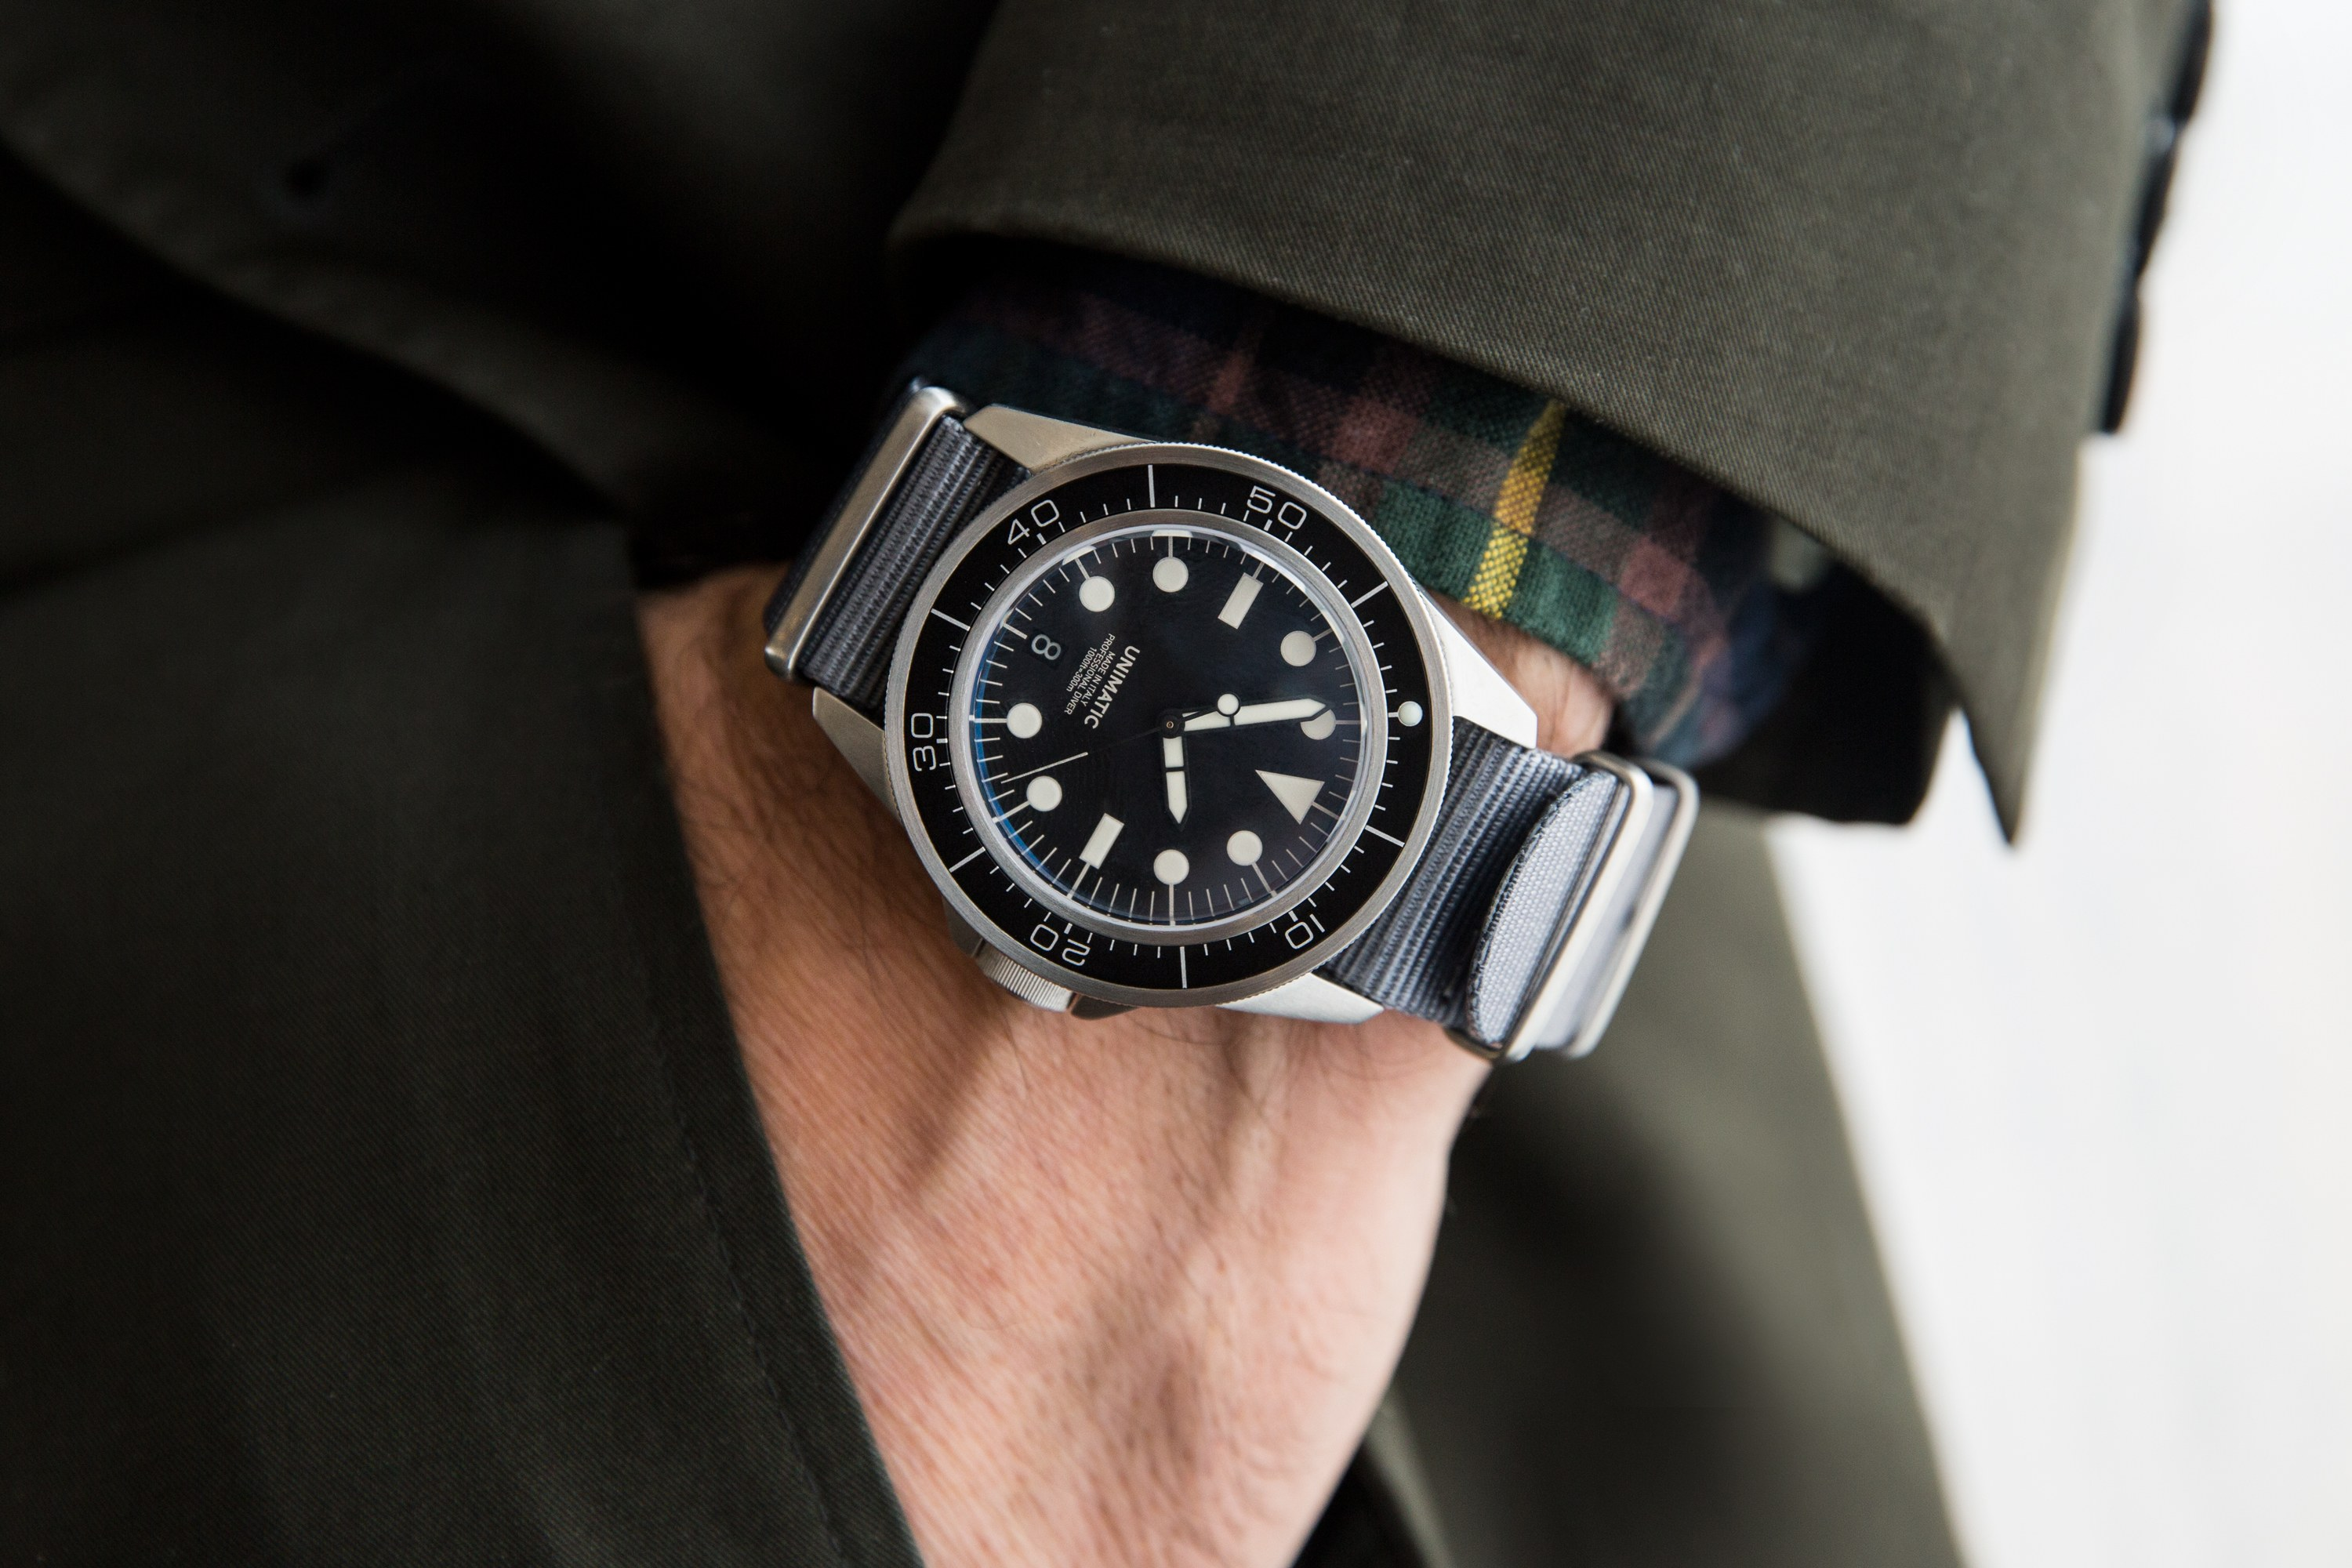clock: (882, 441, 1454, 1006)
